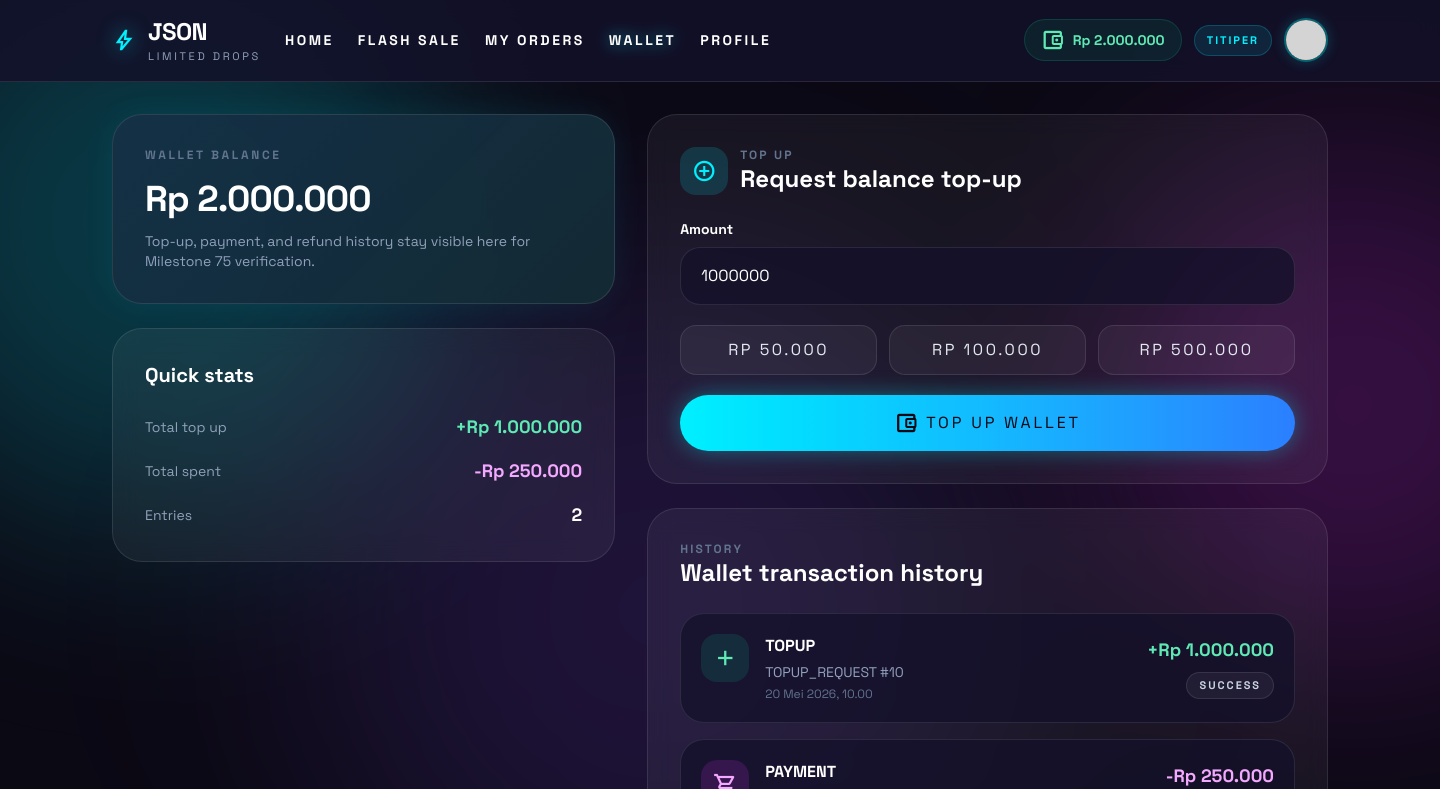
it: buyer and role pages › renders wallet, submits a top-up request, and refreshes transactions
The image size is (1440, 789).
Check: the text "Wallet Balance" is shown, box top-left (145, 146), bottom-right (282, 162)
Check: the text "Total top up" is shown, box top-left (145, 416), bottom-right (227, 436)
Click the button "Rp 50.000" at (779,350), box top-left (680, 324), bottom-right (877, 374)
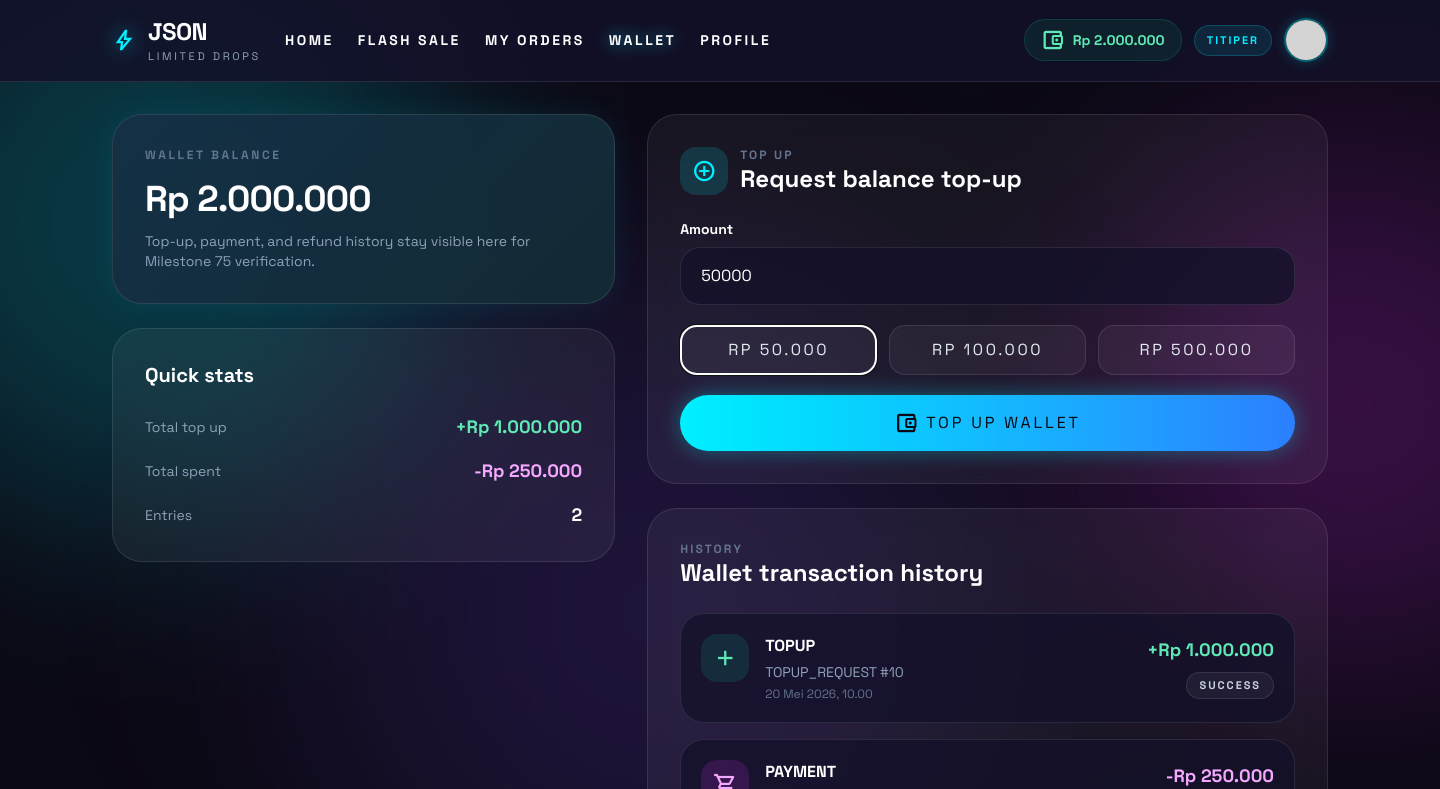
Click the button "Top Up Wallet" at (988,422), box top-left (680, 394), bottom-right (1295, 450)
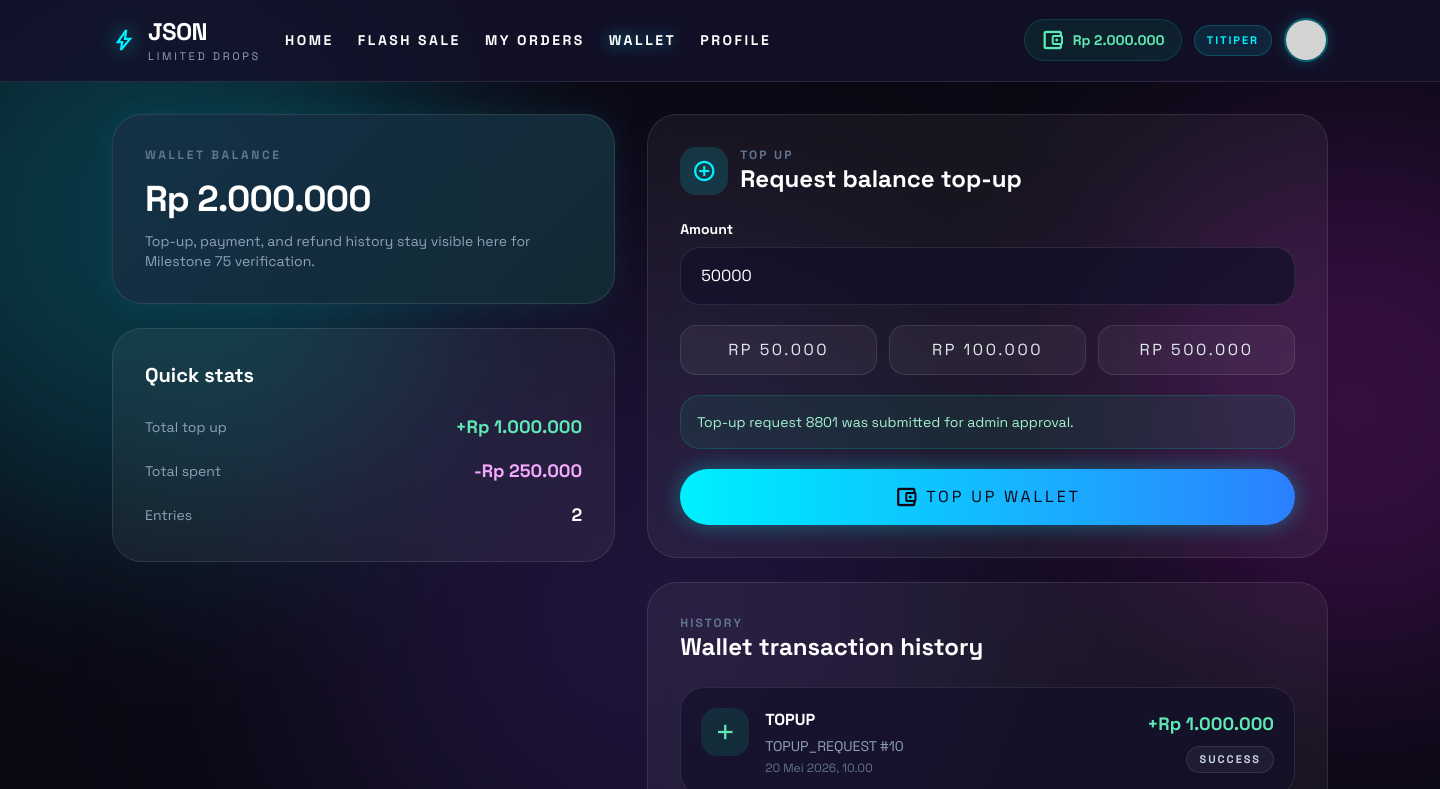
Check: the text "Top-up request 8801 was submitted for admin approval." is shown, box top-left (680, 394), bottom-right (1295, 448)
